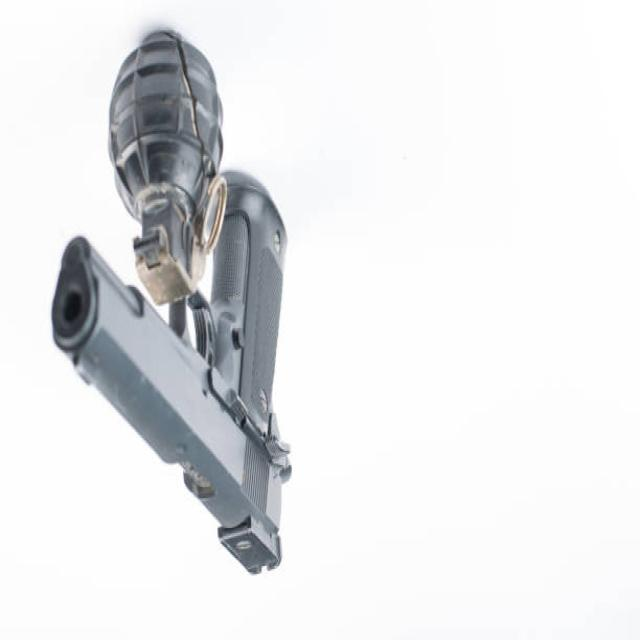grenade: (108, 35, 234, 315)
